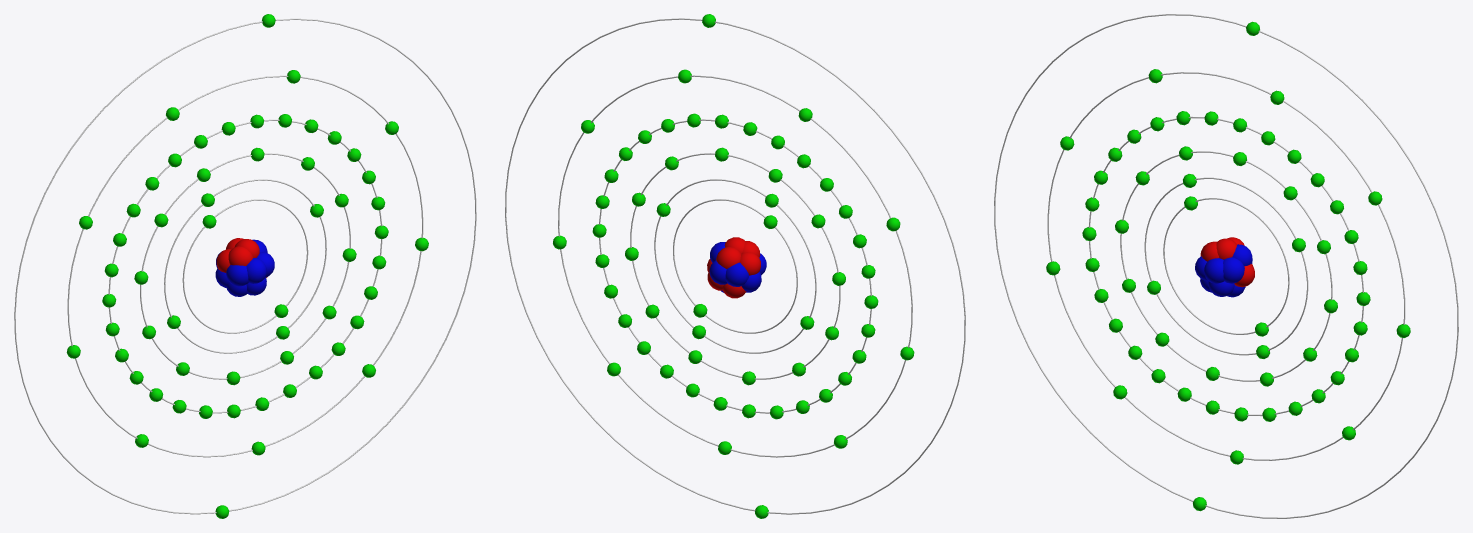
File: rheniumElectronStructre_01.fbx
3 views of the same model, side by side, from view 1: azimuth 30°, elevation 25°; view 2: azimuth 150°, elevation 25°; view 3: azimuth 330°, elevation 25° (orthographic).
Visible parts, largest first — view 1: output0_2_Instance1_3, output0_0_Instance1_3; view 2: output0_2_Instance1_3, output0_0_Instance1_3; view 3: output0_2_Instance1_3, output0_0_Instance1_3.
Part boxes in pixels (x1,y1,x2,y2): output0_2_Instance1_3: (14,14,476,518); output0_0_Instance1_3: (215,238,274,296); output0_2_Instance1_3: (505,14,965,518); output0_0_Instance1_3: (707,237,766,298); output0_2_Instance1_3: (994,14,1458,518); output0_0_Instance1_3: (1195,237,1254,297).
Size of the model in its own units: 35.39 by 36.04 by 4.06.
